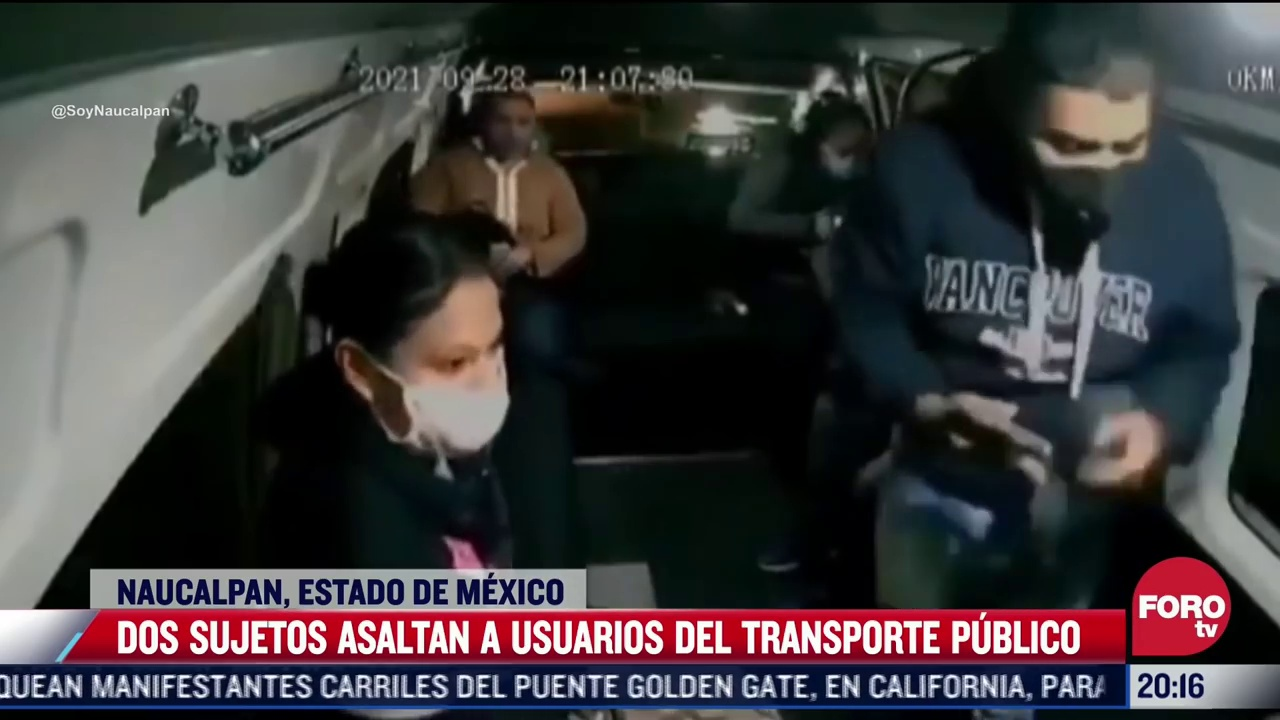pistol: (907, 393, 1055, 488)
